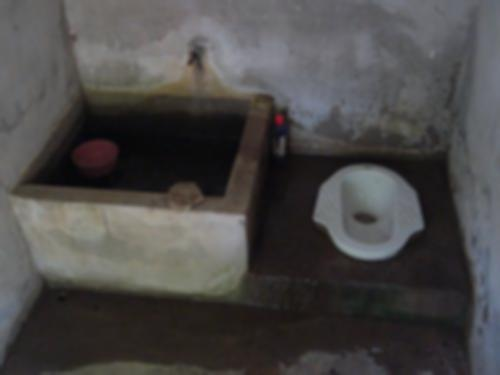Sanitario: (307, 154, 427, 267)
